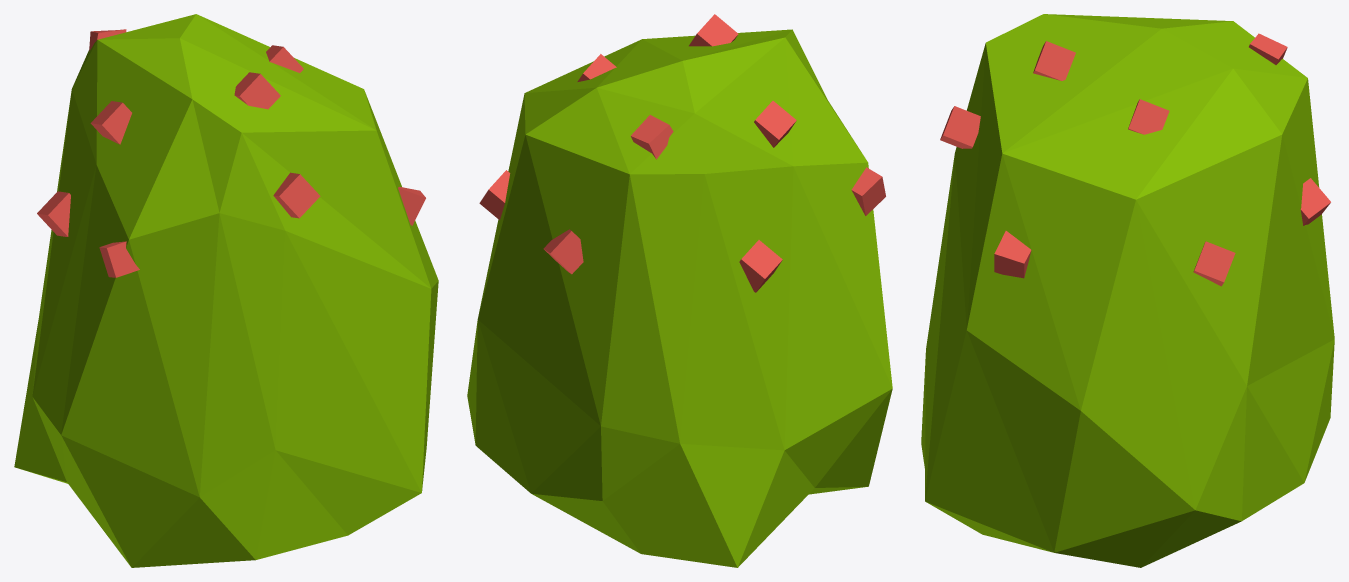
The model's file is Bush_Berries_Red_Tall.fbx.
3 renders of one model, left to right at view 1: azimuth 30°, elevation 25°; view 2: azimuth 150°, elevation 25°; view 3: azimuth 270°, elevation 25°, orthographic. The views are drawn at different scales.
Parts seen in each view (by area): view 1: Bush_Berries_Red_Tall; view 2: Bush_Berries_Red_Tall; view 3: Bush_Berries_Red_Tall.
Part boxes in pixels (bbox=[...]): Bush_Berries_Red_Tall: bbox=[14, 14, 438, 567]; Bush_Berries_Red_Tall: bbox=[467, 14, 892, 567]; Bush_Berries_Red_Tall: bbox=[921, 14, 1334, 567].
Size of the model in its own units: 186 by 215 by 170.
